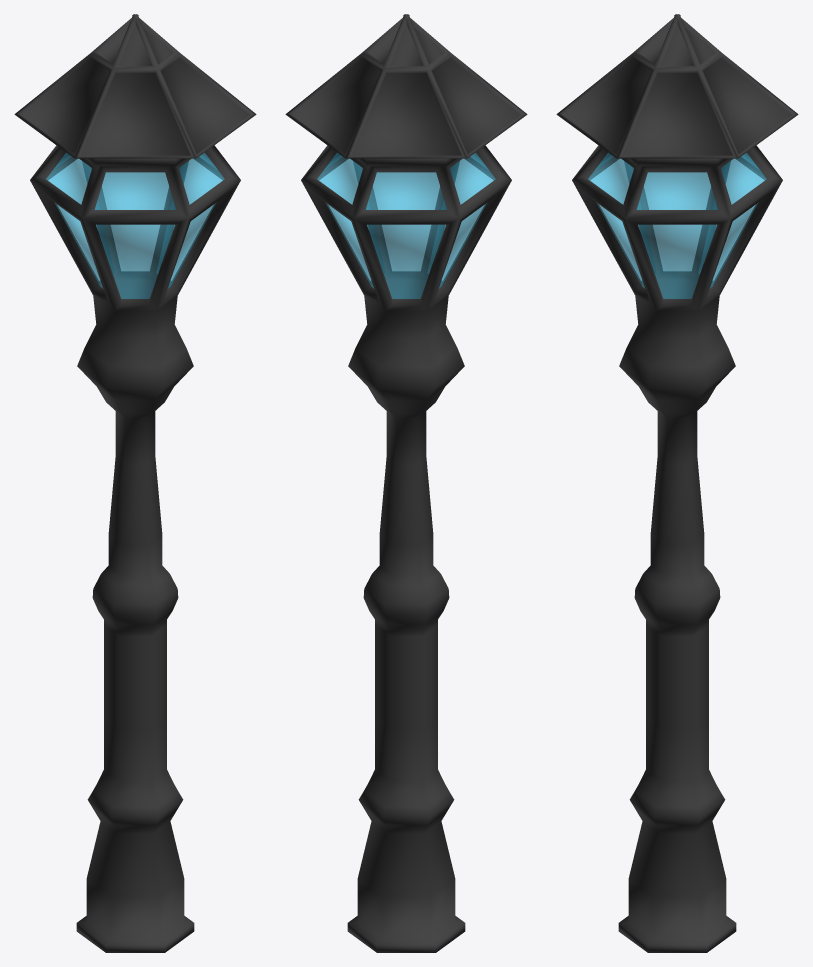
The model's file is mesh_streetLamp.fbx.
3 renders of one model, left to right at view 1: azimuth 30°, elevation 25°; view 2: azimuth 150°, elevation 25°; view 3: azimuth 270°, elevation 25°, orthographic.
Visible parts, largest first — view 1: streetLamp; view 2: streetLamp; view 3: streetLamp.
Boxes of the visible parts, x1,y1,x2,y2 form: streetLamp: (14, 14, 256, 952); streetLamp: (285, 14, 527, 952); streetLamp: (556, 14, 798, 952).
Bounding box in the file's own units: 26.23 × 126 × 30.29.
